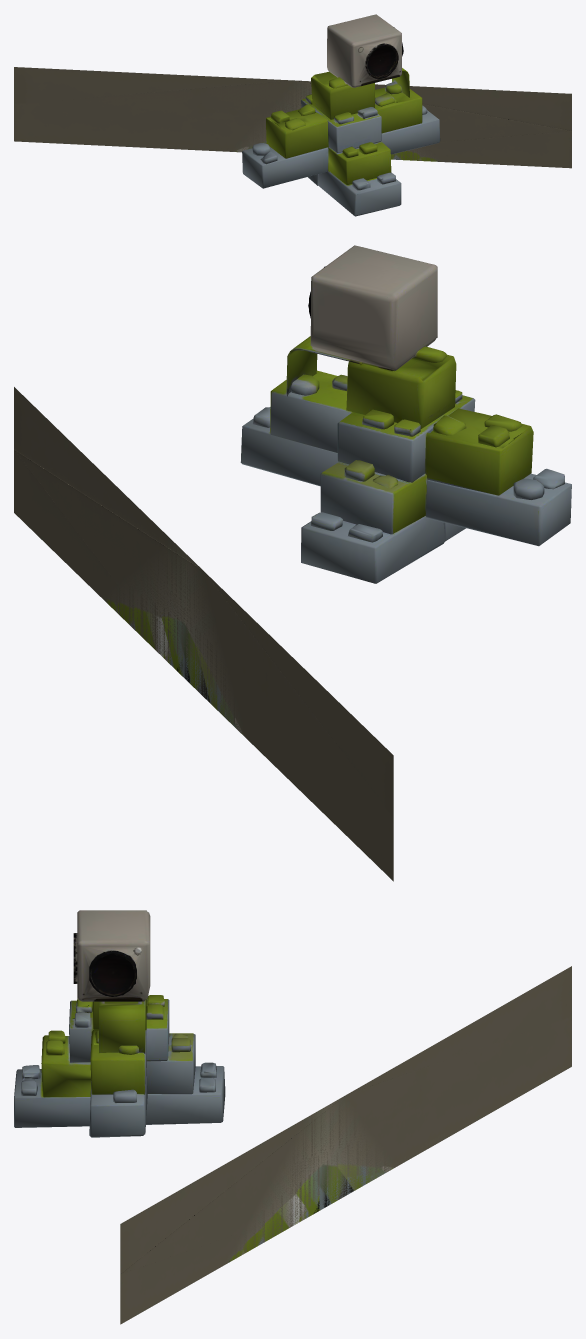
File: object_0_asset_4a879f06.glb
3 renders of one model, top to bottom at view 1: azimuth 30°, elevation 25°; view 2: azimuth 150°, elevation 25°; view 3: azimuth 270°, elevation 25°, orthographic. The views are drawn at different scales.
Visible parts, largest first — view 1: tripo_node_e5b976c7-d035-4512-8b00-7f53eea8fe24; view 2: tripo_node_e5b976c7-d035-4512-8b00-7f53eea8fe24; view 3: tripo_node_e5b976c7-d035-4512-8b00-7f53eea8fe24.
Boxes of the visible parts, x1,y1,x2,y2 form: tripo_node_e5b976c7-d035-4512-8b00-7f53eea8fe24: (14,14,571,216); tripo_node_e5b976c7-d035-4512-8b00-7f53eea8fe24: (14,245,571,881); tripo_node_e5b976c7-d035-4512-8b00-7f53eea8fe24: (14,910,571,1324).
Size of the model in its own units: 0.998 by 0.4707 by 0.9121.
Materials: 1 (1 with a texture image).
